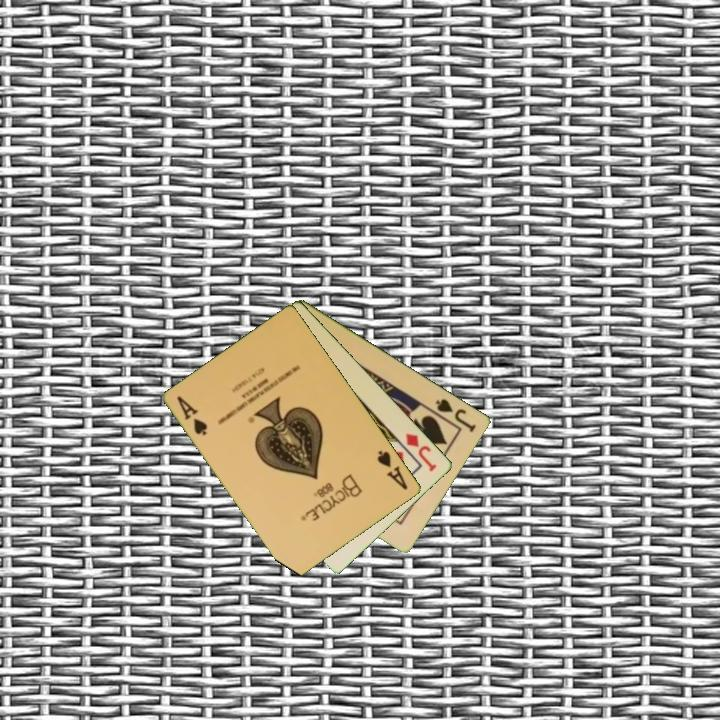As: (374, 446, 411, 493), (174, 392, 211, 439)
Jd: (402, 429, 440, 474)
Js: (433, 395, 479, 435)
